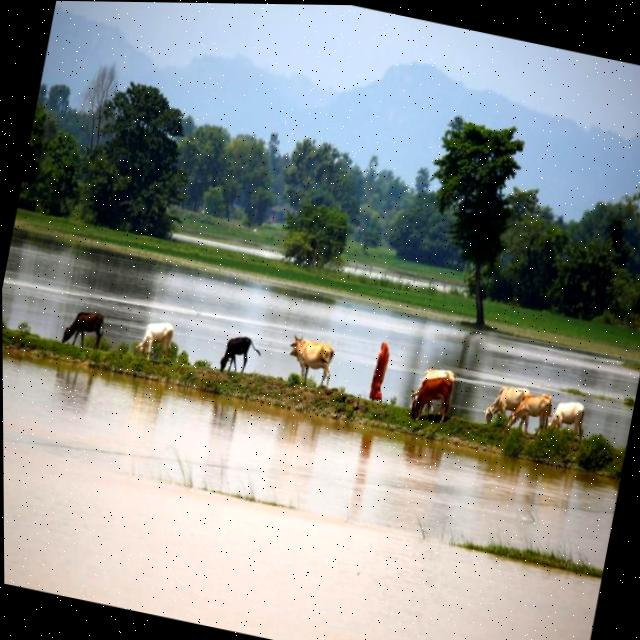civilian: (359, 332, 404, 413)
cow: (47, 291, 117, 359), (275, 328, 346, 395), (404, 360, 467, 419), (479, 371, 534, 434), (407, 372, 464, 429), (206, 327, 264, 381), (539, 390, 593, 445), (132, 310, 182, 363), (511, 390, 553, 431)
